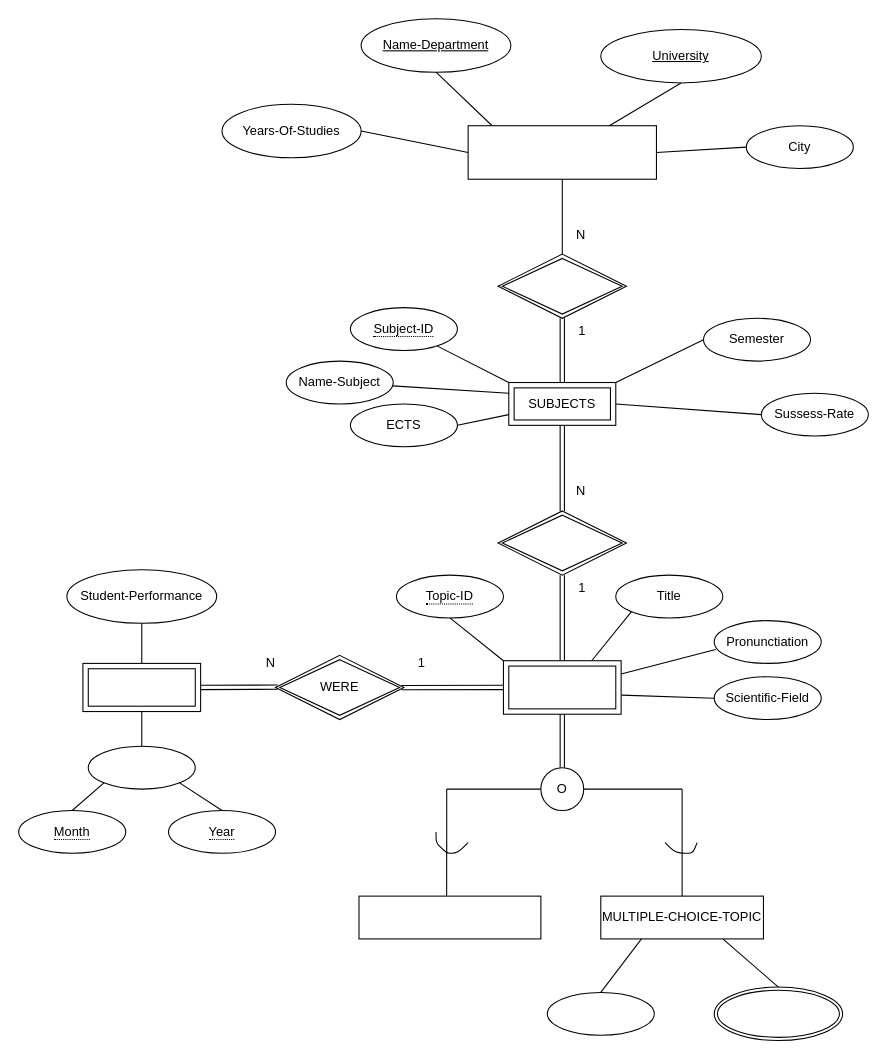
The diagram is 887 pixels wide and 1059 high, and some of its shapes have lost their labels. Each missing label, with the box of its shape:
Answers: (546, 991, 654, 1035)
Corrects_Answers: (713, 986, 843, 1041)
DEPARTMENT: (467, 125, 656, 179)
DEVELOPMENT-TOPIC: (358, 895, 541, 939)
EXAMS: (82, 662, 201, 712)
HAS: (497, 253, 626, 318)
HAVE: (497, 510, 626, 575)
Period: (87, 745, 195, 789)
TOPICS: (502, 660, 621, 714)
